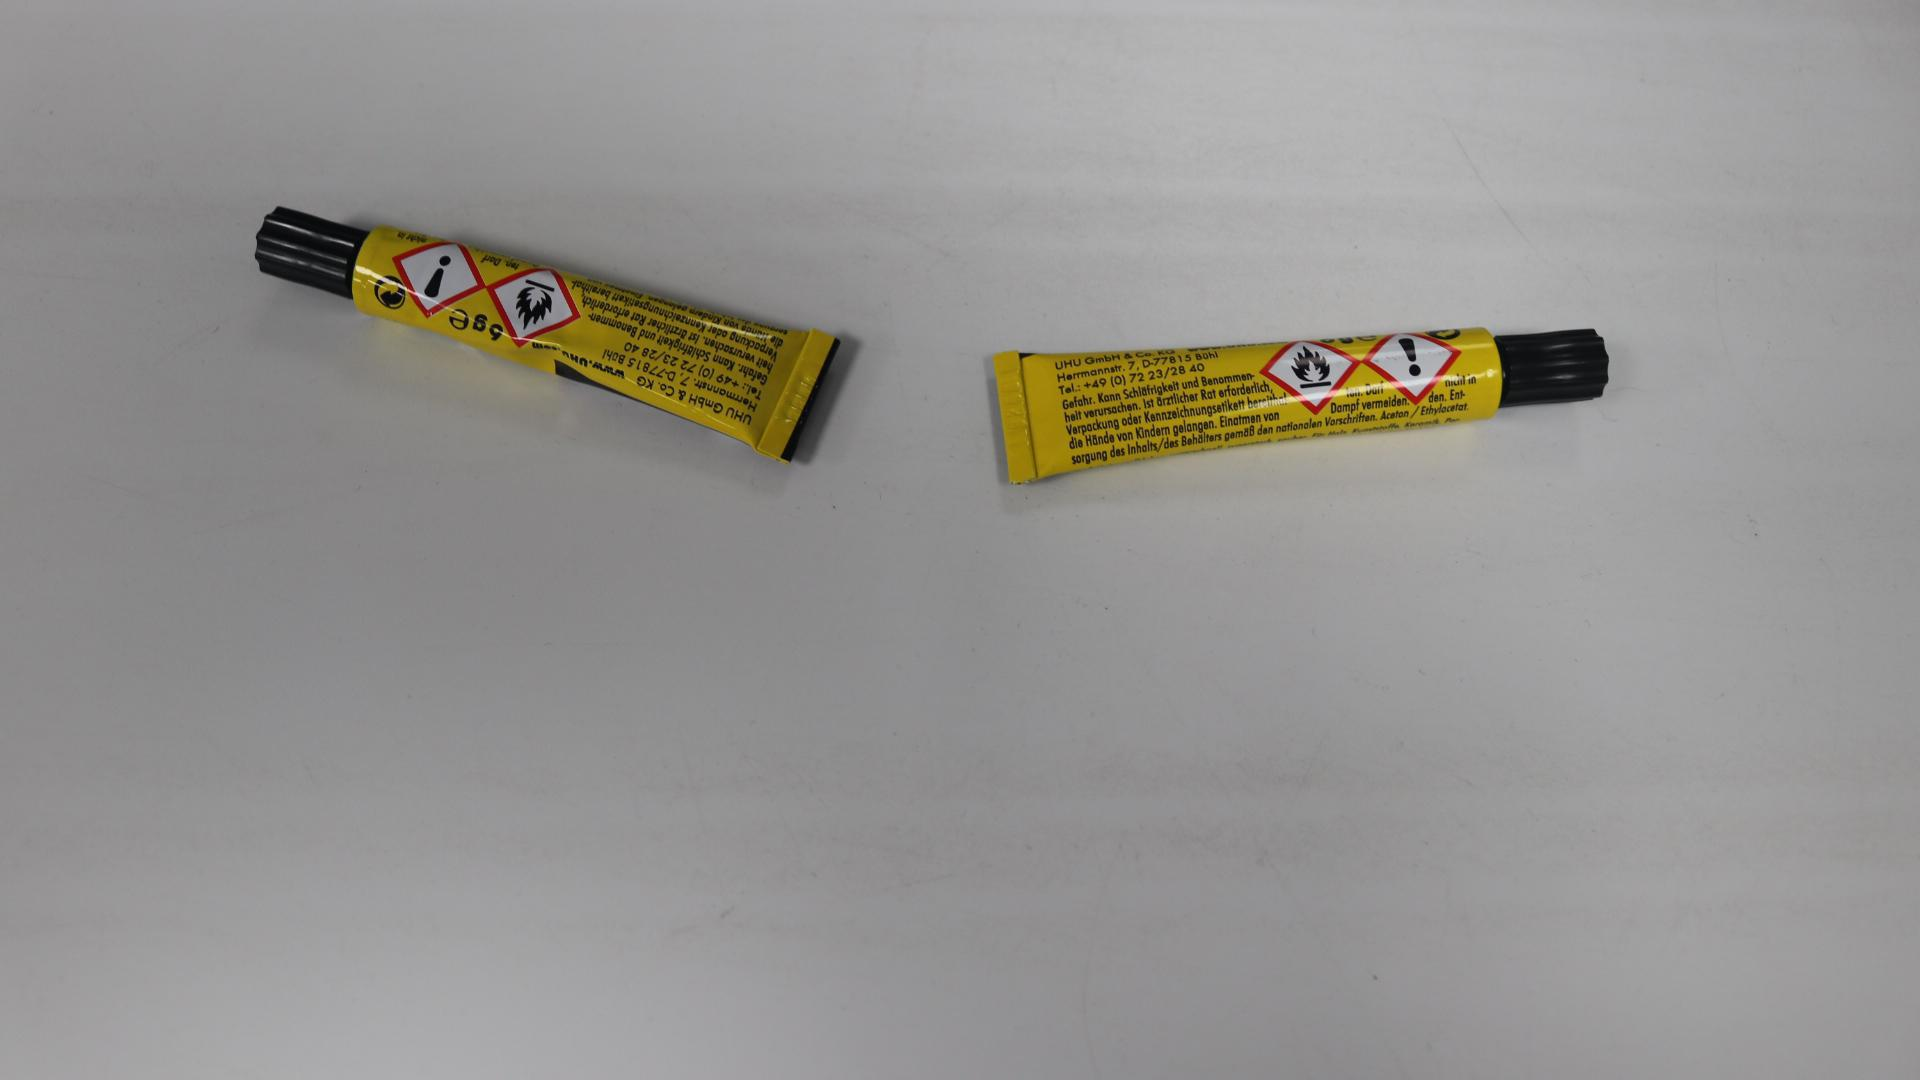Head: (1546, 357, 1562, 375), (305, 241, 321, 255)
Tail: (786, 386, 810, 407), (1005, 404, 1022, 432)
Tube: (256, 206, 842, 463), (993, 328, 1609, 483)
